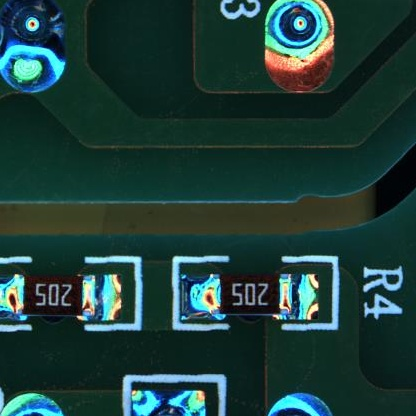spot: (264, 1, 334, 94), (1, 2, 68, 96), (263, 392, 337, 416), (1, 390, 66, 415)
